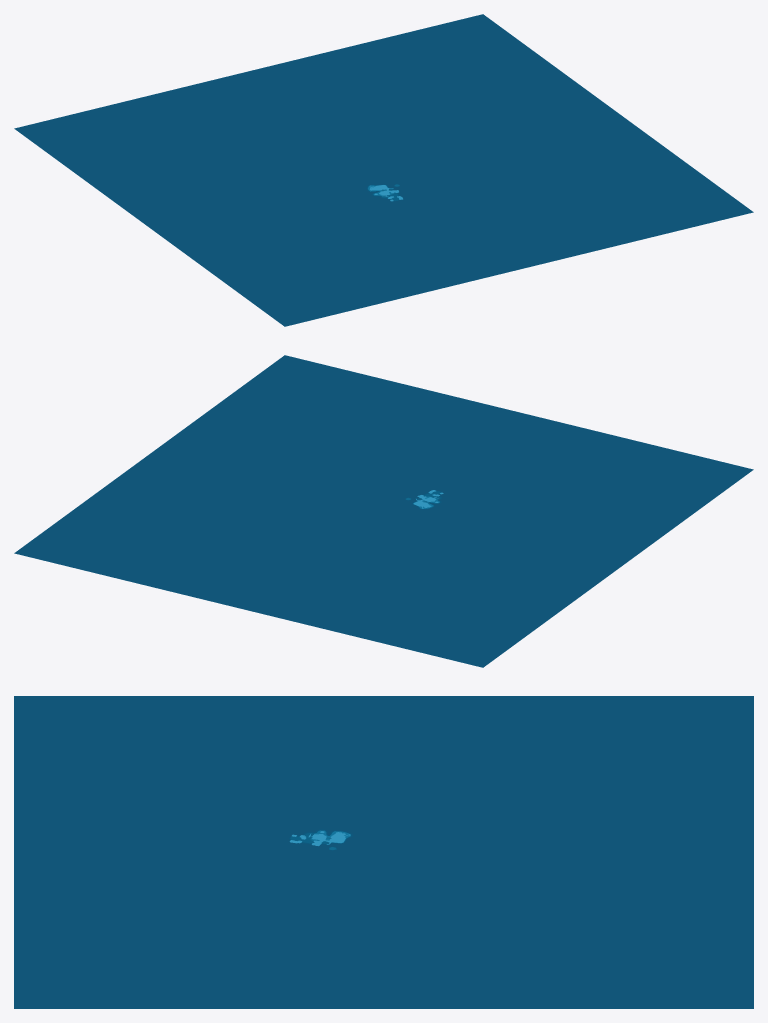
Rendered from kd_stage_136599_14_0.glb.
3 renders of one model, top to bottom at view 1: azimuth 30°, elevation 25°; view 2: azimuth 150°, elevation 25°; view 3: azimuth 270°, elevation 25°, orthographic. The views are drawn at different scales.
Parts seen in each view (by area): view 1: kd_stage_136599_14_0; view 2: kd_stage_136599_14_0; view 3: kd_stage_136599_14_0.
Boxes of the visible parts, x1=… form: kd_stage_136599_14_0: x1=14, y1=14, x2=753, y2=326; kd_stage_136599_14_0: x1=14, y1=355, x2=753, y2=667; kd_stage_136599_14_0: x1=14, y1=696, x2=753, y2=1008.
Size of the model in its own units: 17000 by 2.23 by 17000.
1 material, 1 textured.
